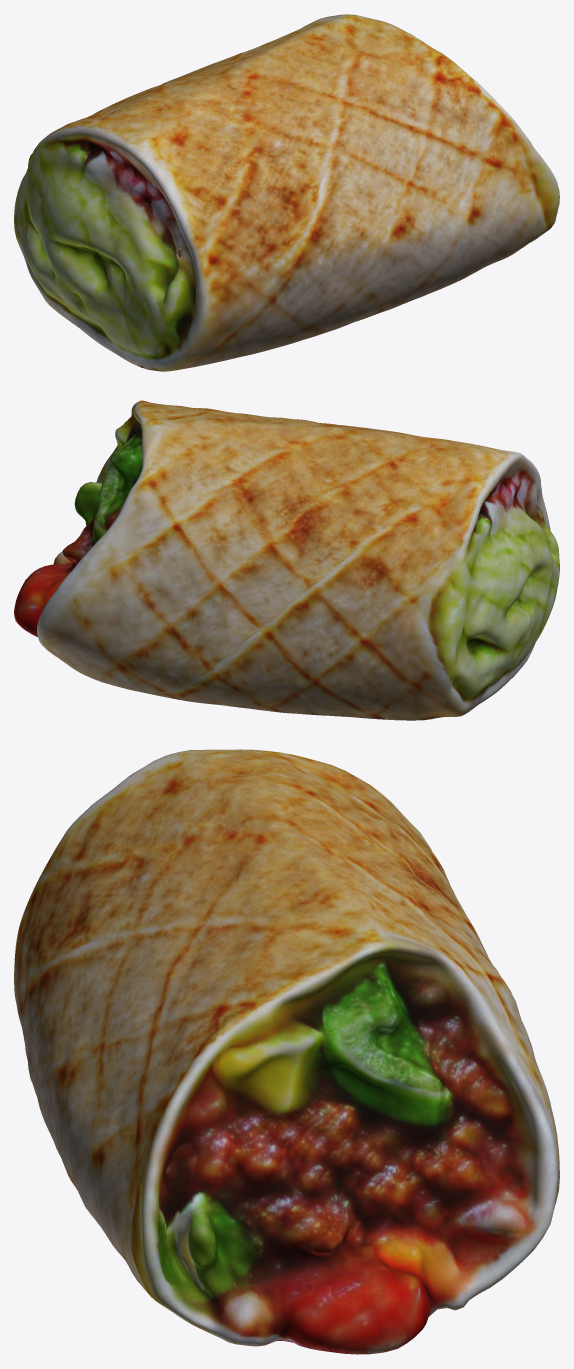
Rendered from burrito.glb.
3 renders of one model, top to bottom at view 1: azimuth 30°, elevation 25°; view 2: azimuth 150°, elevation 25°; view 3: azimuth 270°, elevation 25°, orthographic. The views are drawn at different scales.
Visible parts, largest first — view 1: Object_2; view 2: Object_2; view 3: Object_2.
Boxes of the visible parts, x1,y1,x2,y2 form: Object_2: (14,14,559,371); Object_2: (14,400,559,720); Object_2: (14,749,559,1354).
Bounding box in the file's own units: 0.9991 × 0.5037 × 0.7009.
Materials: 1 (1 with a texture image).
